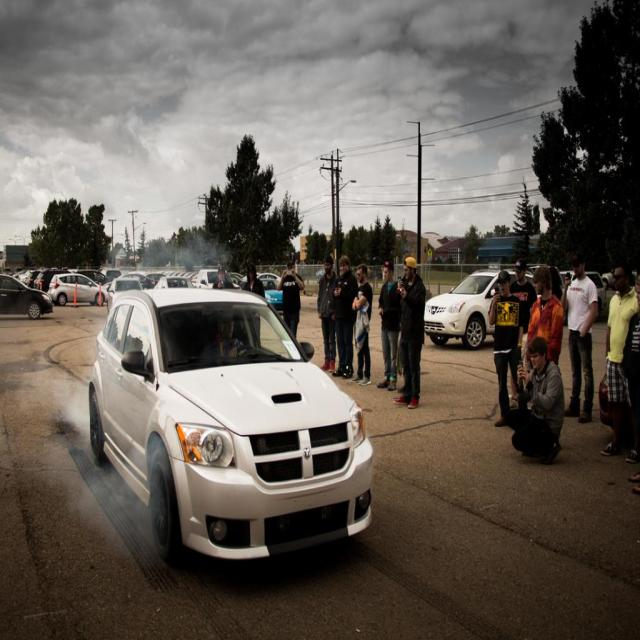car: (91, 289, 370, 558)
